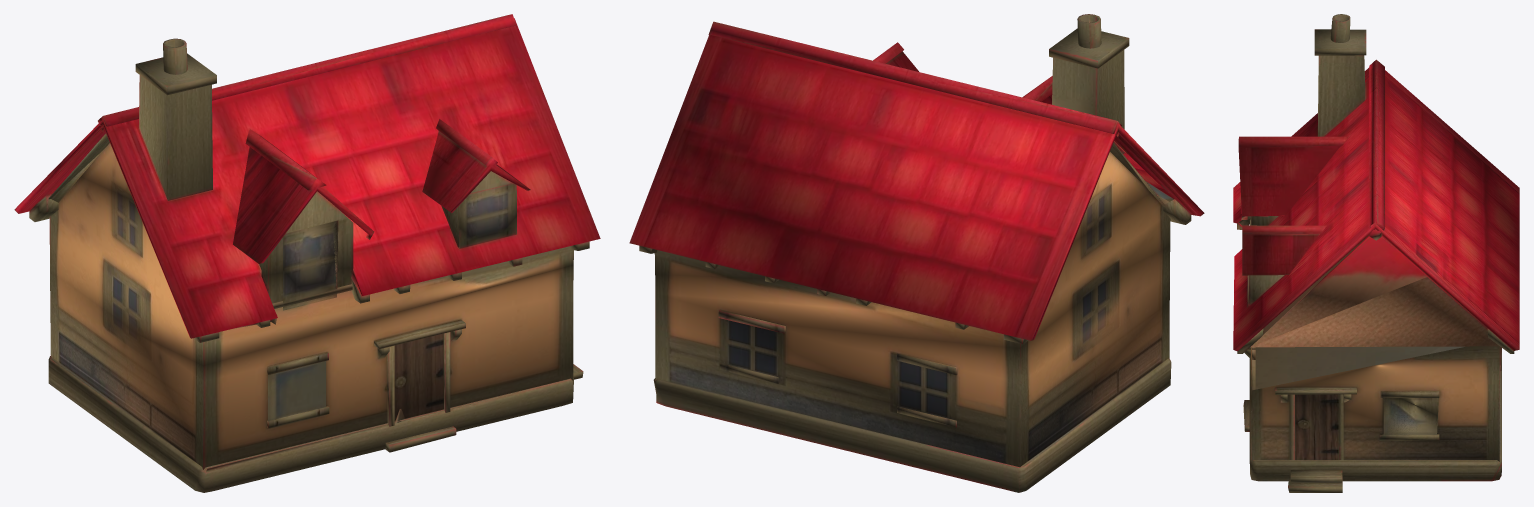
The model's file is cottage.glb.
3 renders of one model, left to right at view 1: azimuth 30°, elevation 25°; view 2: azimuth 150°, elevation 25°; view 3: azimuth 270°, elevation 25°, orthographic. The views are drawn at different scales.
Size of the model in its own units: 0.9551 by 0.8618 by 0.6855.
1 material, 1 textured.
